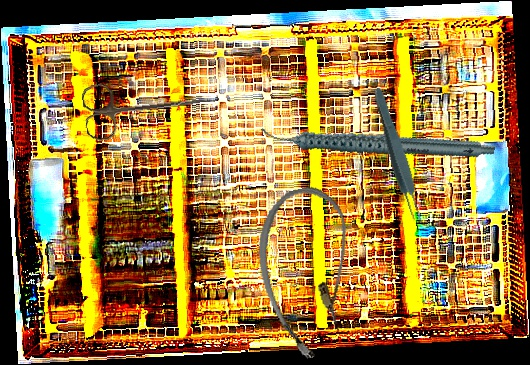Cannula: (244, 180, 375, 365)
Handpiece: (259, 78, 496, 205)
Iris Scissors: (80, 69, 212, 143)
Tissue Forceps: (368, 85, 427, 227)
